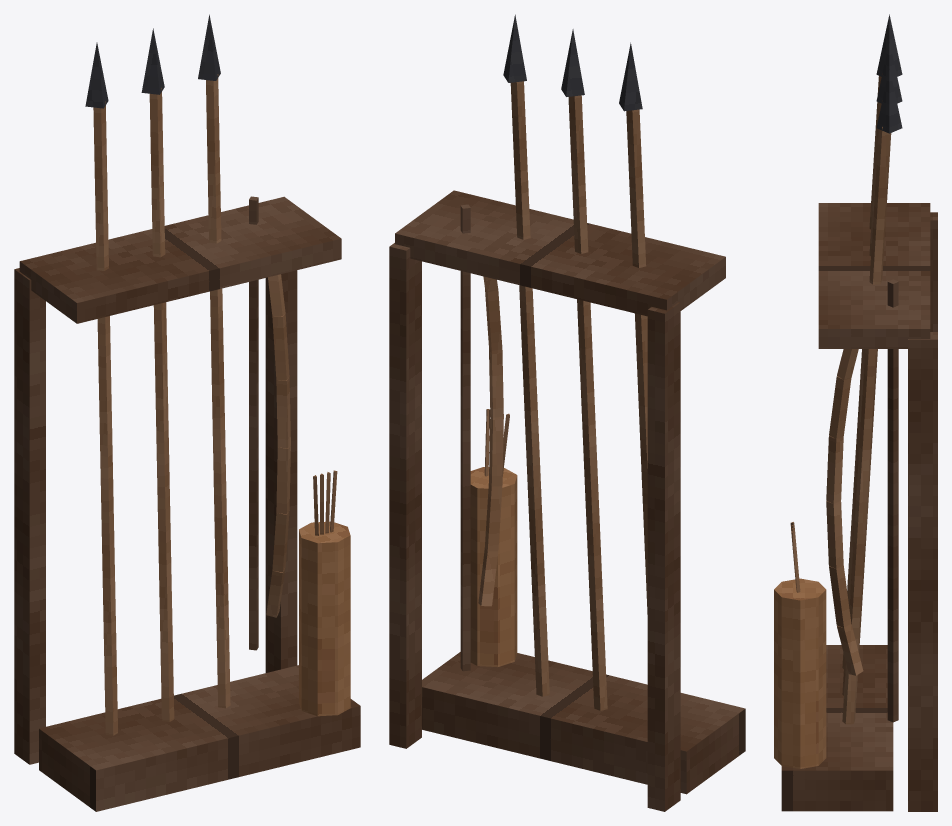
File: weapon_rack.glb
3 renders of one model, left to right at view 1: azimuth 30°, elevation 25°; view 2: azimuth 150°, elevation 25°; view 3: azimuth 270°, elevation 25°, orthographic. The views are drawn at different scales.
Visible parts, largest first — view 1: body; view 2: body; view 3: body.
Part boxes in pixels (box(x1,y1,x2,y2)): body: box(14, 14, 360, 811); body: box(389, 14, 745, 811); body: box(774, 14, 937, 811).
Bounding box in the file's own units: 0.81 × 2.07 × 0.44.
Materials: 4 (4 with a texture image).
